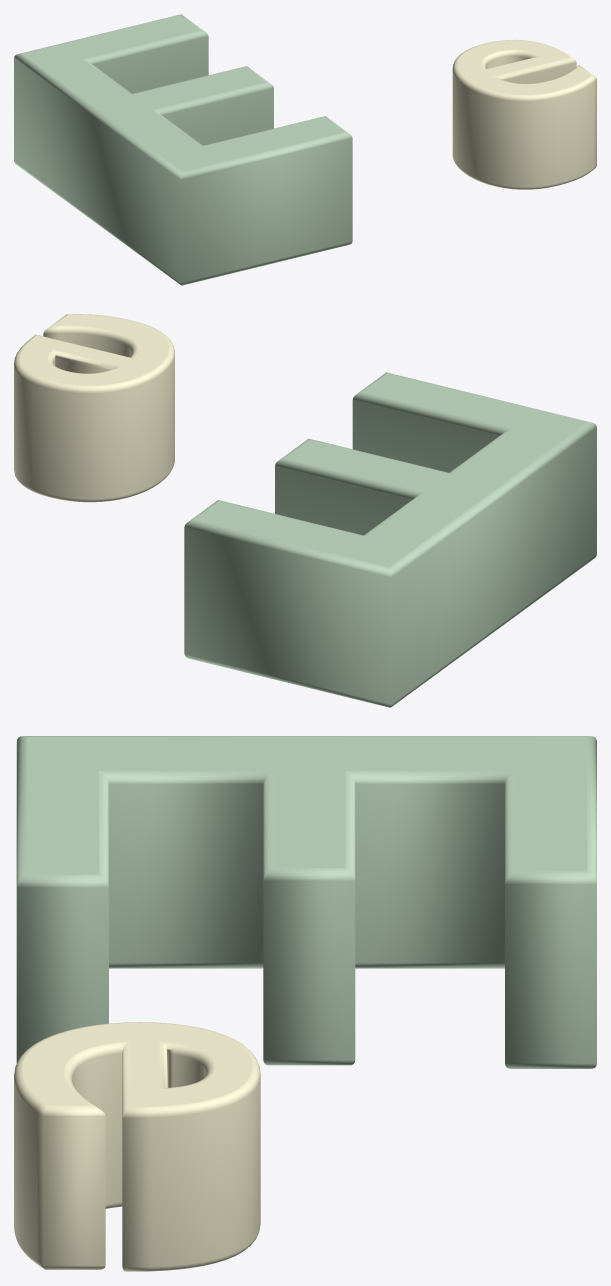
File: vocal_E.glb
3 views of the same model, one above another, from view 1: azimuth 30°, elevation 25°; view 2: azimuth 150°, elevation 25°; view 3: azimuth 270°, elevation 25° (orthographic). The views are drawn at different scales.
Parts seen in each view (by area): view 1: E_Mayuscula, e_minuscula; view 2: E_Mayuscula, e_minuscula; view 3: E_Mayuscula, e_minuscula.
Boxes of the visible parts, x1,y1,x2,y2 form: E_Mayuscula: (14,14,352,285); e_minuscula: (452,39,596,189); E_Mayuscula: (184,372,596,707); e_minuscula: (14,314,174,502); E_Mayuscula: (16,736,596,1068); e_minuscula: (14,1022,260,1271).
Size of the model in its own units: 2.6 by 0.66 by 1.77.
